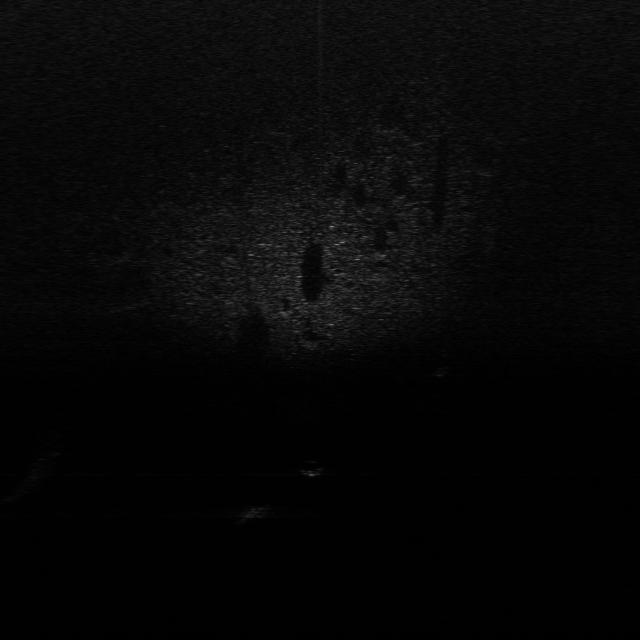ball: (296, 455, 326, 479)
square cage: (230, 499, 272, 518)
tyre: (429, 349, 458, 379)
